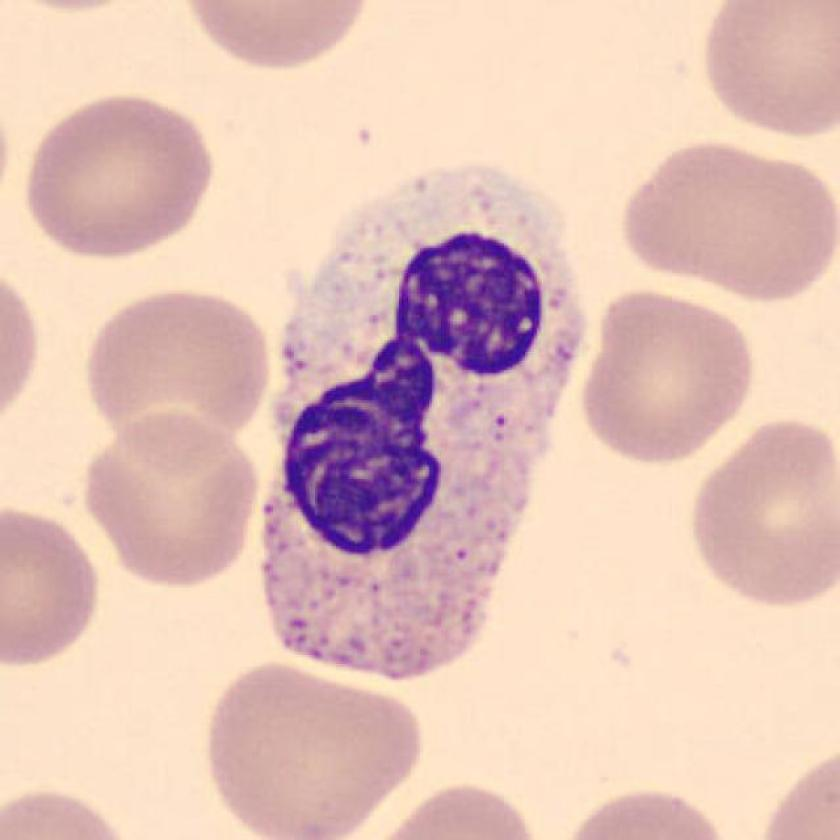neutrophil: (263, 163, 580, 679)
